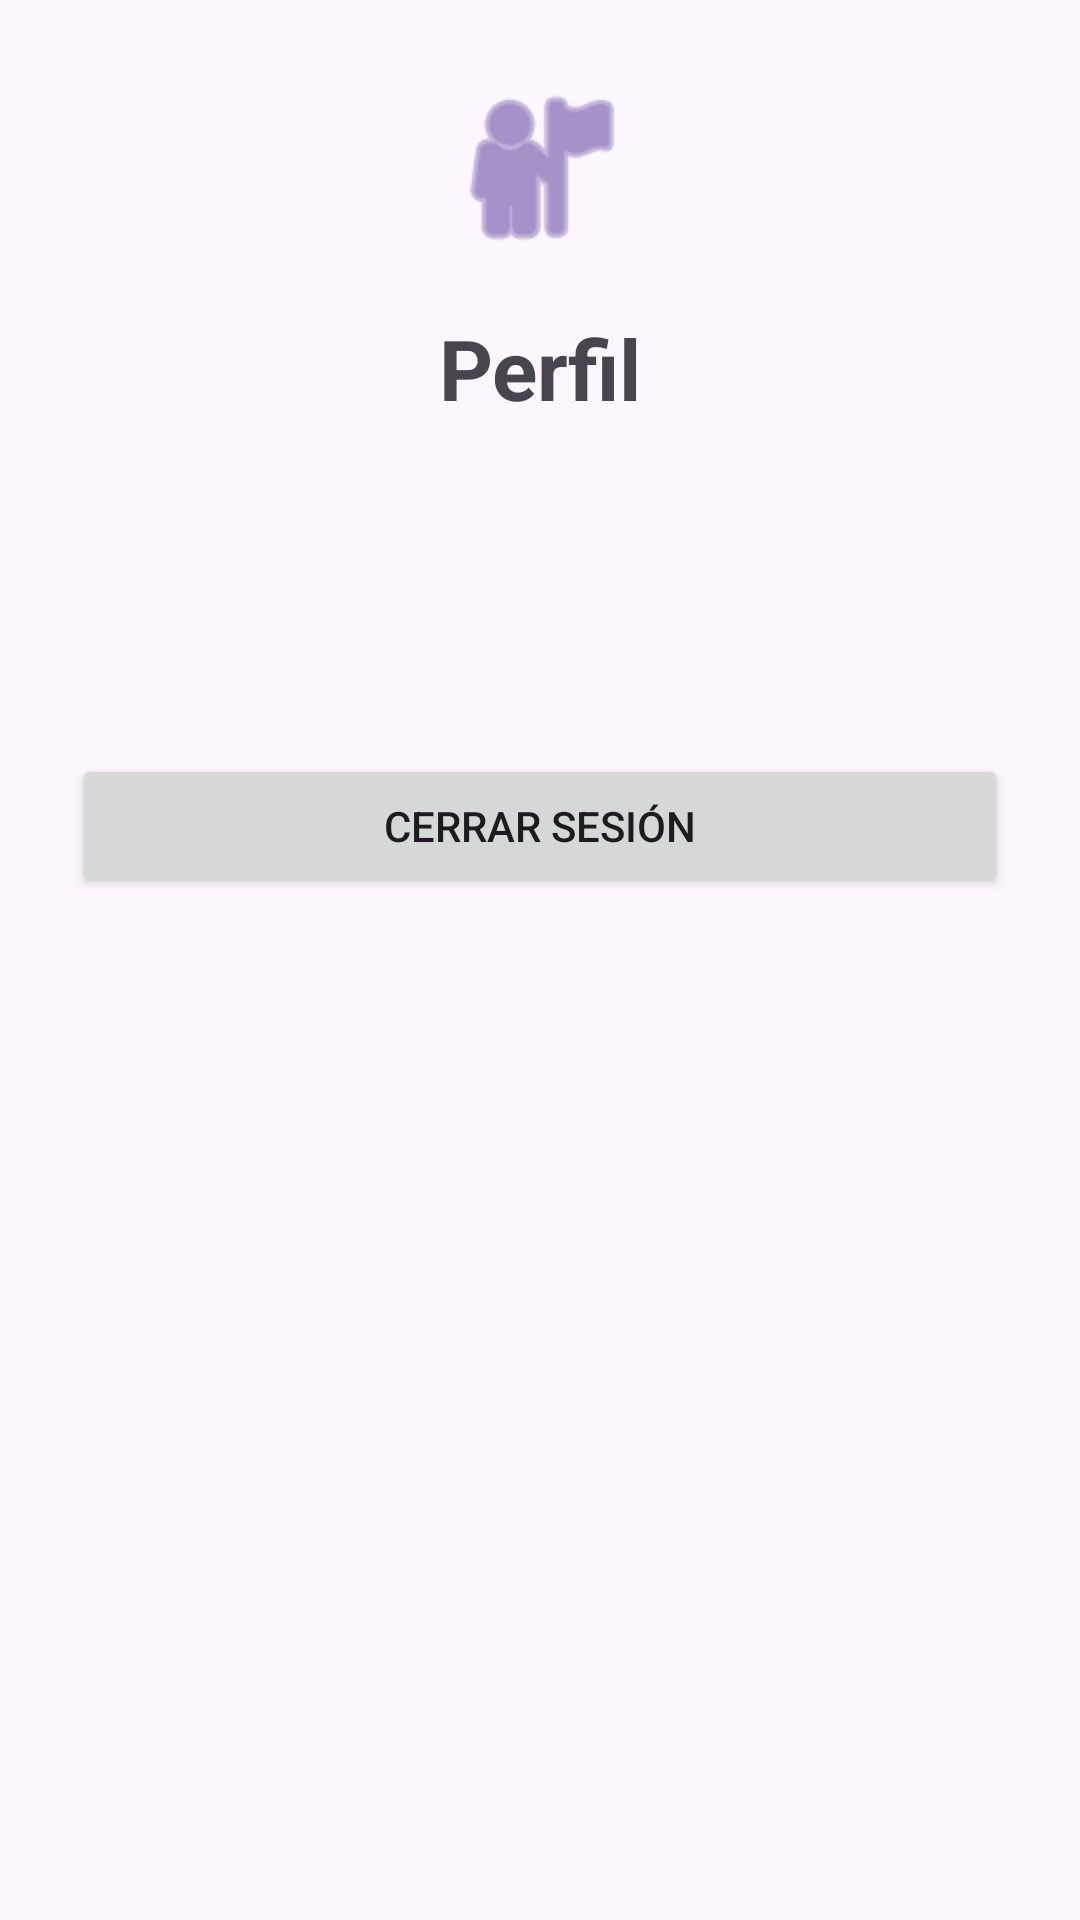

Screen size 1080px x 1920px. Icon name, then its center in pixels as [x,y]:
myplaces: [542,168]
